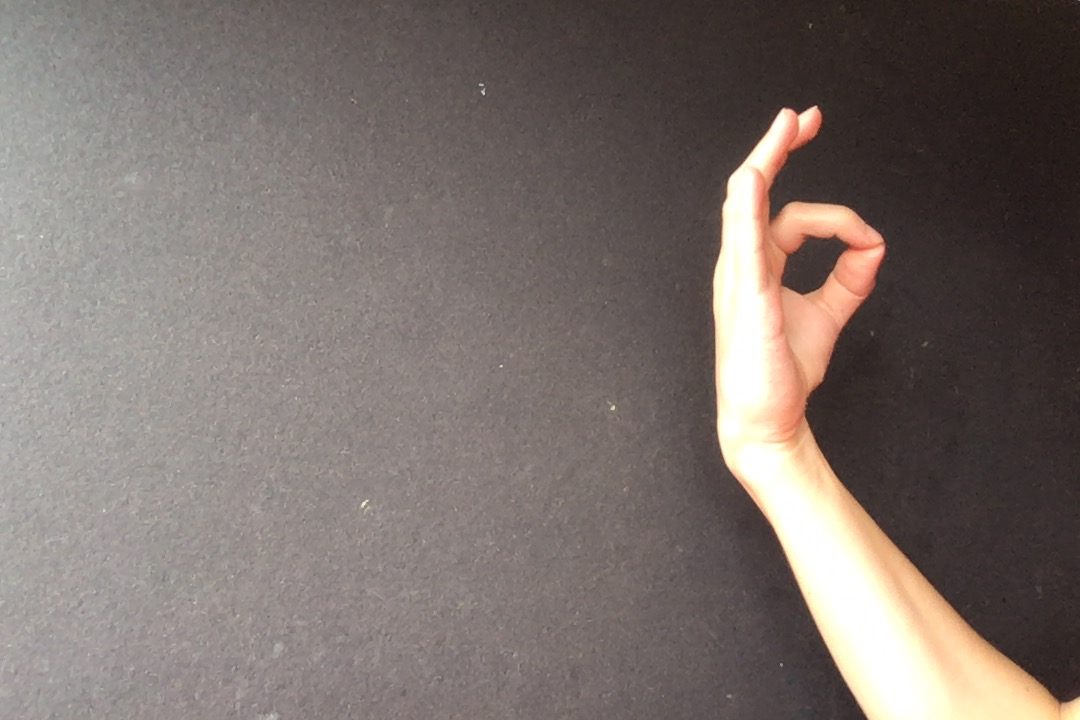oksign: (707, 101, 890, 460)
